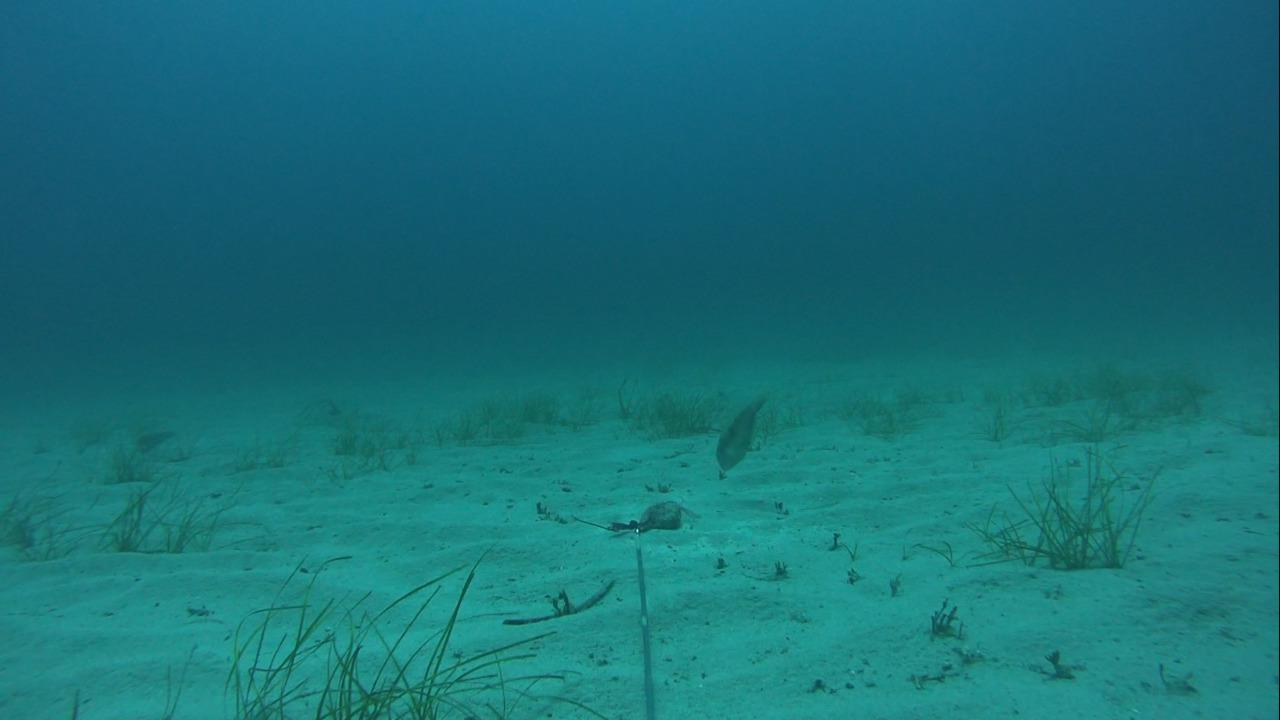raor: (712, 390, 772, 482), (124, 421, 184, 458)
